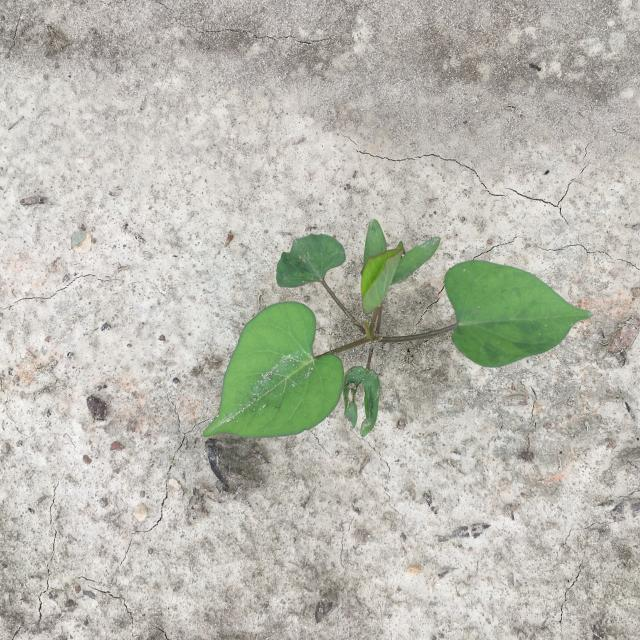MorningGlory: (203, 220, 594, 438)
